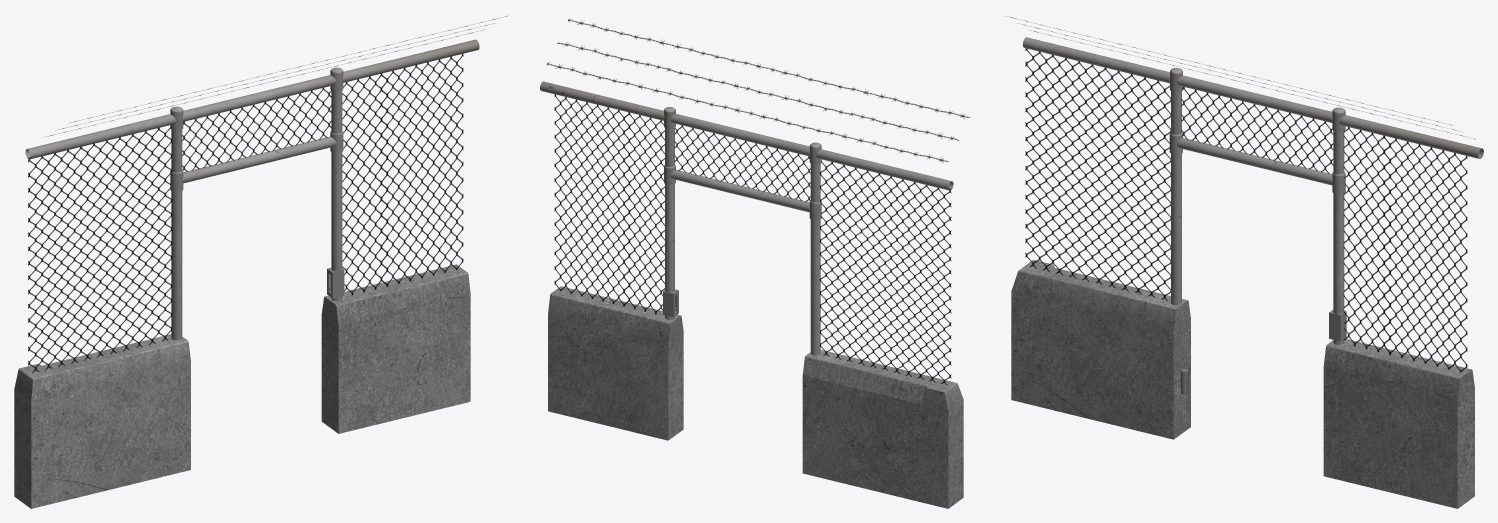
Rendered from gatedoorwithoutdoor.glb.
3 renders of one model, left to right at view 1: azimuth 30°, elevation 25°; view 2: azimuth 150°, elevation 25°; view 3: azimuth 330°, elevation 25°, orthographic. The views are drawn at different scales.
Visible parts, largest first — view 1: Wall_Door_Corner_Concrete_Metal_shader_0; view 2: Wall_Door_Corner_Concrete_Metal_shader_0; view 3: Wall_Door_Corner_Concrete_Metal_shader_0.
Boxes of the visible parts, left/top/right/bottom form: Wall_Door_Corner_Concrete_Metal_shader_0: left=14, top=15, right=508, bottom=508; Wall_Door_Corner_Concrete_Metal_shader_0: left=540, top=19, right=970, bottom=508; Wall_Door_Corner_Concrete_Metal_shader_0: left=1005, top=16, right=1483, bottom=508.
Size of the model in its own units: 3.11 by 2.62 by 0.4919.
Materials: 2 (2 with a texture image).
